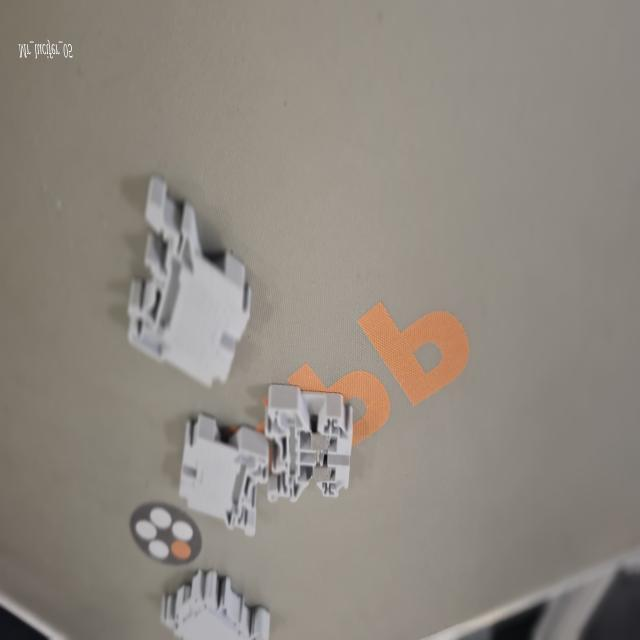Inverted: (118, 170, 268, 394), (175, 412, 274, 545)
Pass: (262, 373, 360, 535)
